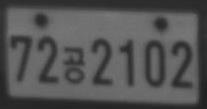0: (144, 39, 166, 86)
1: (117, 39, 140, 87)
2: (170, 41, 194, 88), (91, 37, 113, 86), (37, 36, 59, 83)
7: (9, 34, 33, 82)
공: (62, 46, 86, 83)
